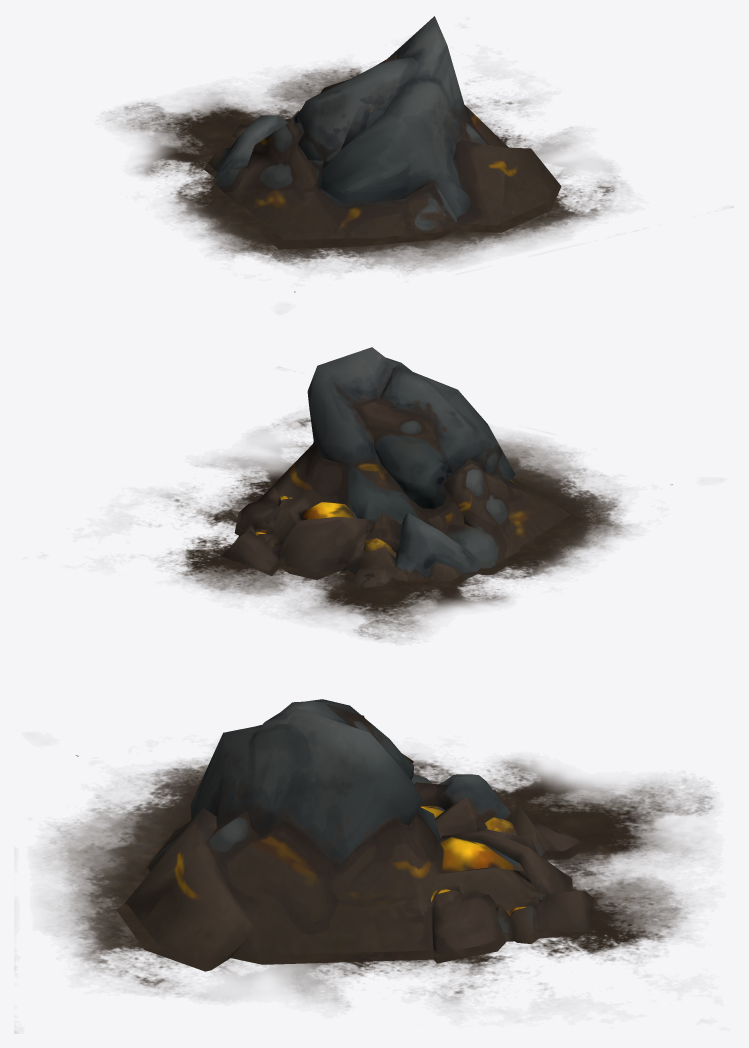
3 renders of one model, top to bottom at view 1: azimuth 30°, elevation 25°; view 2: azimuth 150°, elevation 25°; view 3: azimuth 270°, elevation 25°, orthographic. The views are drawn at different scales.
Parts seen in each view (by area): view 1: plants_gold_vein_a-0-vein, plants_gold_vein_a-1-underlay; view 2: plants_gold_vein_a-0-vein, plants_gold_vein_a-1-underlay; view 3: plants_gold_vein_a-0-vein, plants_gold_vein_a-1-underlay.
Boxes of the visible parts, bbox=[...] form: plants_gold_vein_a-0-vein: bbox=[204, 16, 561, 248]; plants_gold_vein_a-1-underlay: bbox=[107, 66, 623, 292]; plants_gold_vein_a-0-vein: bbox=[221, 347, 570, 588]; plants_gold_vein_a-1-underlay: bbox=[149, 417, 672, 642]; plants_gold_vein_a-0-vein: bbox=[125, 699, 593, 971]; plants_gold_vein_a-1-underlay: bbox=[42, 754, 714, 1006].
Bounding box in the file's own units: 6.27 × 2 × 6.27.
2 materials, 2 textured.
